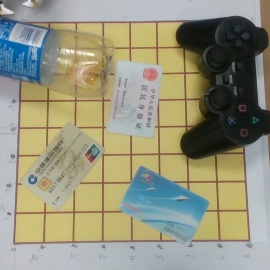card: (18, 120, 105, 208), (118, 165, 209, 246), (107, 60, 161, 140)
remote: (175, 14, 270, 163)
